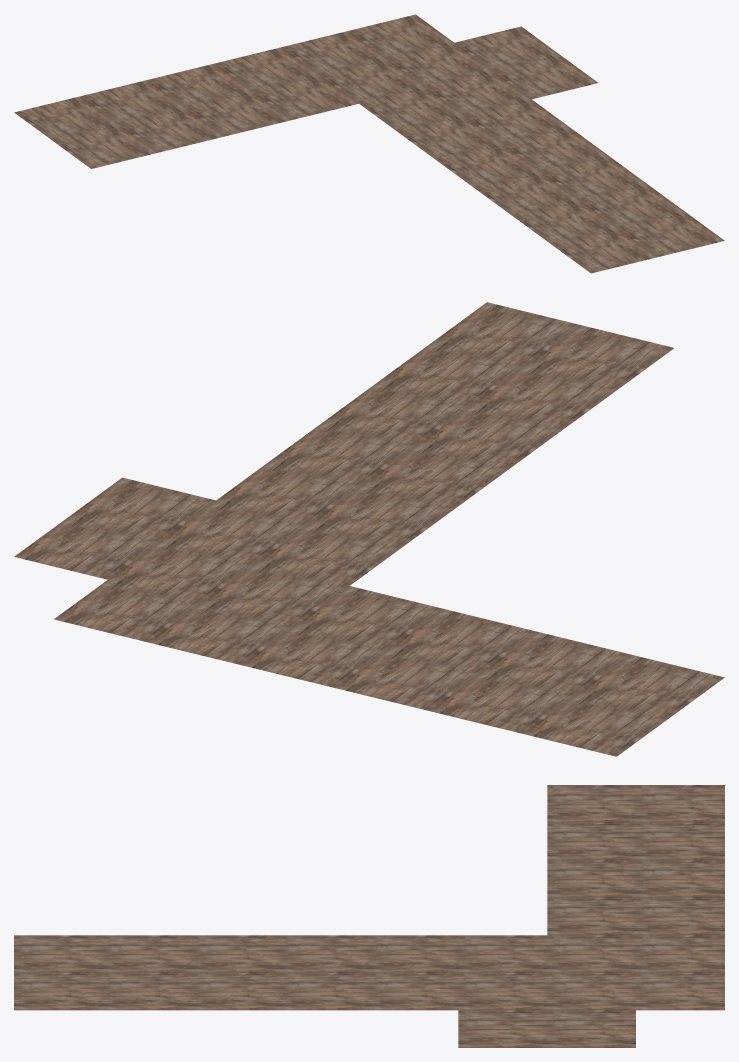
The model's file is room_floor.fbx.
3 renders of one model, top to bottom at view 1: azimuth 30°, elevation 25°; view 2: azimuth 150°, elevation 25°; view 3: azimuth 270°, elevation 25°, orthographic. The views are drawn at different scales.
Parts seen in each view (by area): view 1: Floor; view 2: Floor; view 3: Floor.
Boxes of the visible parts, x1,y1,x2,y2 form: Floor: [14, 14, 724, 273]; Floor: [14, 302, 724, 756]; Floor: [14, 785, 724, 1047].
Size of the model in its own units: 1260 by 0.000235 by 1440.
